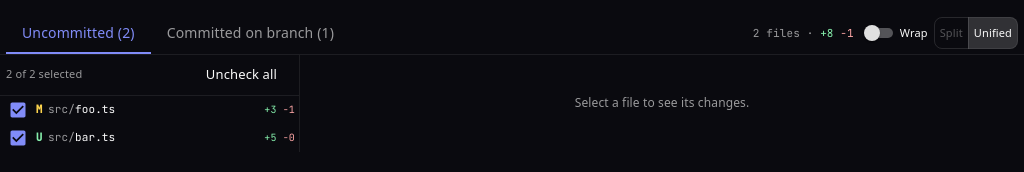
Test case: StopSessionReviewPanel › narrow viewport › shows the file list and a back button once a file is tapped
The image size is (1024, 172).
Click the text "foo.ts" at (95, 109), box [75,102,115,116]
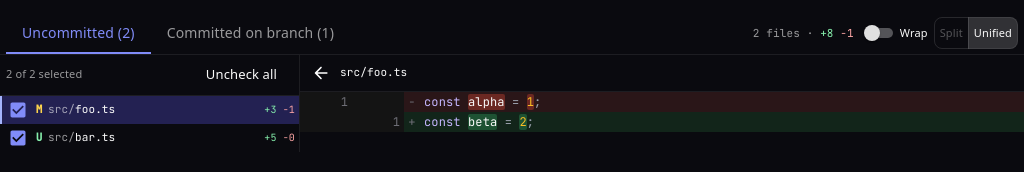
Now the button named "back to file list" is shown, box [306,58,336,88]
